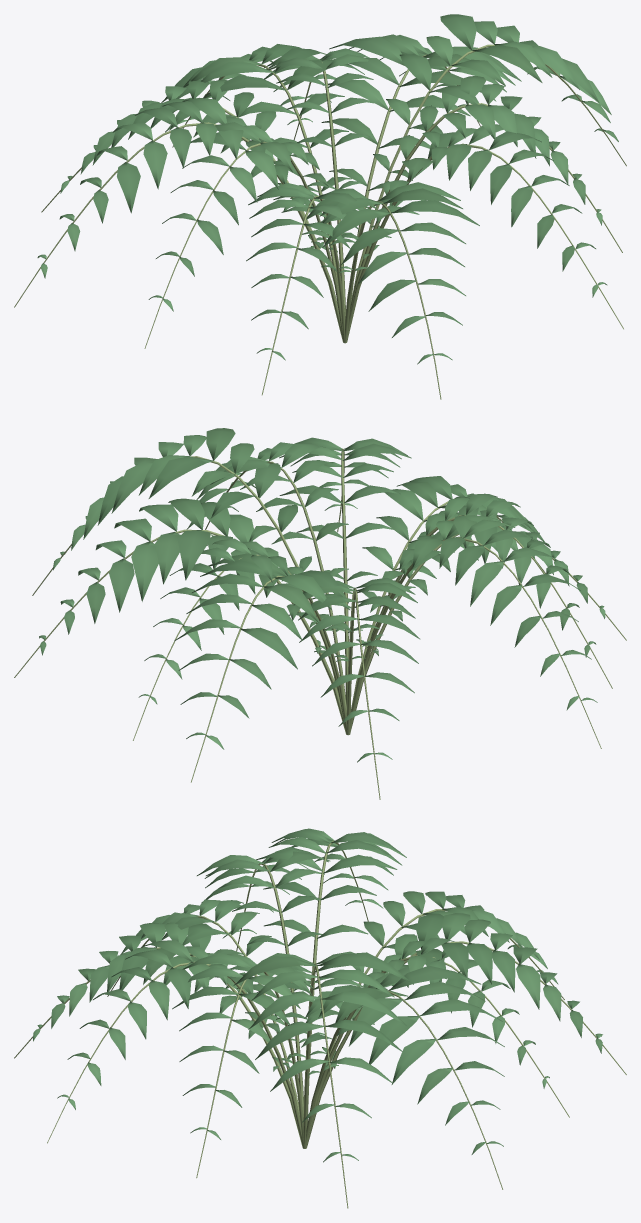
The model's file is woodland_fern_lod1.glb.
The picture shows the model from 3 angles, top to bottom: view 1: azimuth 30°, elevation 25°; view 2: azimuth 150°, elevation 25°; view 3: azimuth 270°, elevation 25°; orthographic projection. The views are drawn at different scales.
Parts seen in each view (by area): view 1: fern_fronds, fern_rachis; view 2: fern_fronds, fern_rachis; view 3: fern_fronds, fern_rachis.
Boxes of the visible parts, bbox=[...] form: fern_fronds: bbox=[37, 14, 618, 364]; fern_rachis: bbox=[14, 44, 626, 399]; fern_fronds: bbox=[39, 428, 605, 762]; fern_rachis: bbox=[14, 449, 626, 799]; fern_fronds: bbox=[33, 828, 602, 1162]; fern_rachis: bbox=[14, 840, 626, 1208].
Bounding box in the file's own units: 1.7 × 0.723 × 1.56.
